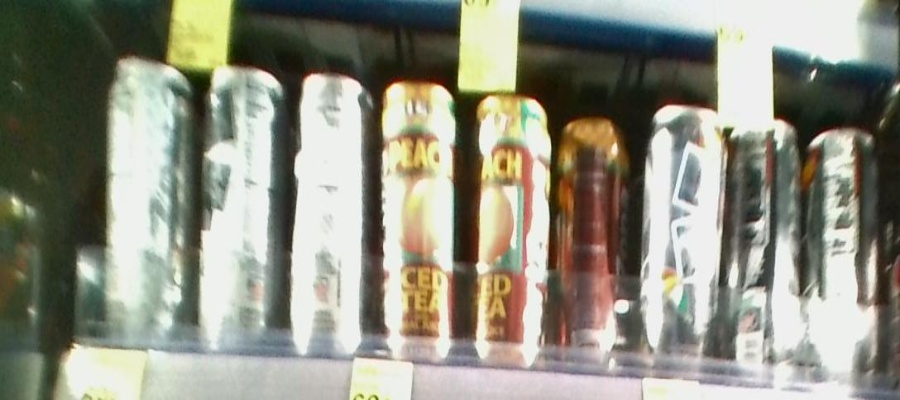bottle: (100, 49, 195, 333), (200, 57, 285, 344), (639, 107, 730, 367), (467, 90, 552, 366), (291, 59, 373, 343), (378, 79, 461, 359), (807, 117, 880, 384), (553, 103, 630, 356), (734, 107, 804, 380)
